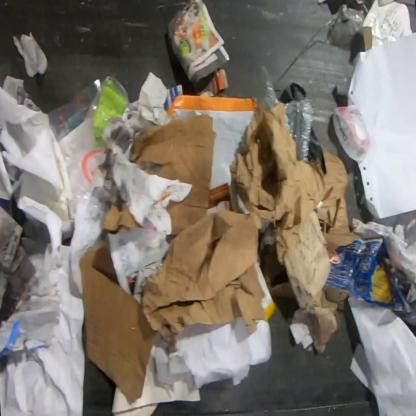cardboard: (140, 209, 264, 348), (79, 240, 160, 404), (128, 114, 217, 236), (325, 238, 412, 316), (317, 140, 358, 256), (99, 186, 151, 239)
rigid_plastic: (47, 75, 130, 194)
soft_plastic: (260, 64, 313, 163), (332, 103, 372, 162), (307, 126, 325, 173), (276, 80, 308, 104)
